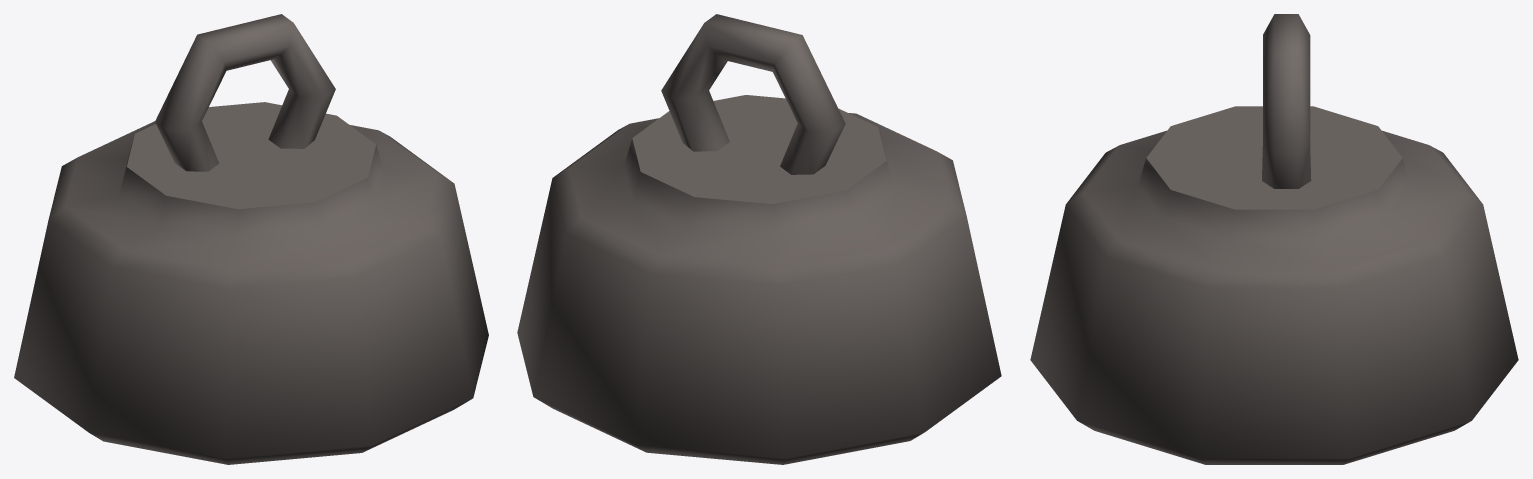
Rendered from Weight2.fbx.
The picture shows the model from 3 angles, left to right: view 1: azimuth 30°, elevation 25°; view 2: azimuth 150°, elevation 25°; view 3: azimuth 270°, elevation 25°; orthographic projection.
Visible parts, largest first — view 1: Weight2; view 2: Weight2; view 3: Weight2.
Boxes of the visible parts, x1=… form: Weight2: x1=14, y1=14, x2=488, y2=464; Weight2: x1=517, y1=14, x2=1001, y2=464; Weight2: x1=1030, y1=14, x2=1518, y2=464.
Size of the model in its own units: 4.97 by 4.03 by 5.23.
